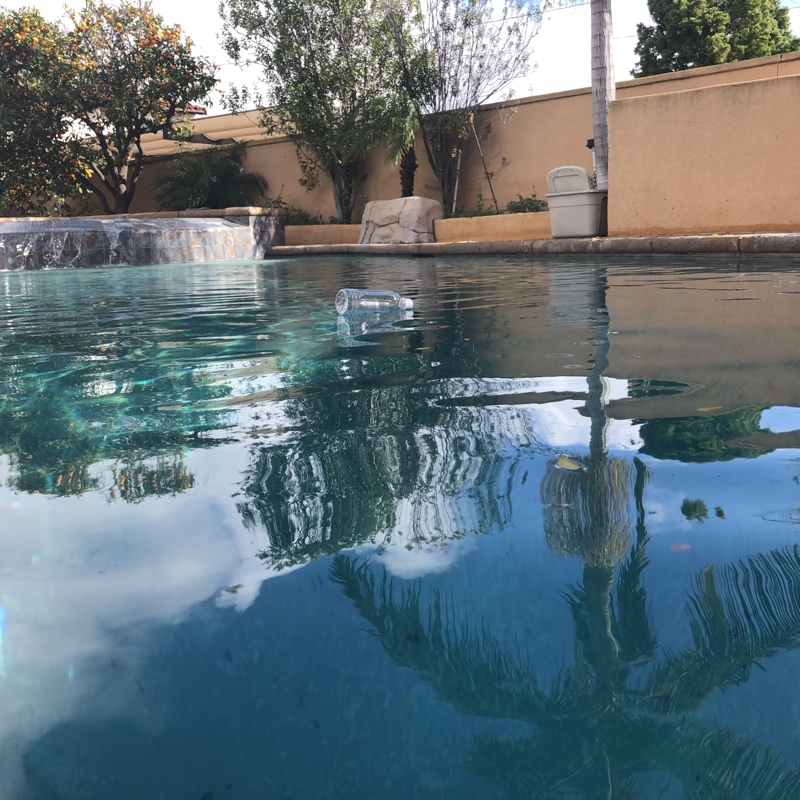Plastic Bottle: (333, 287, 415, 318)
